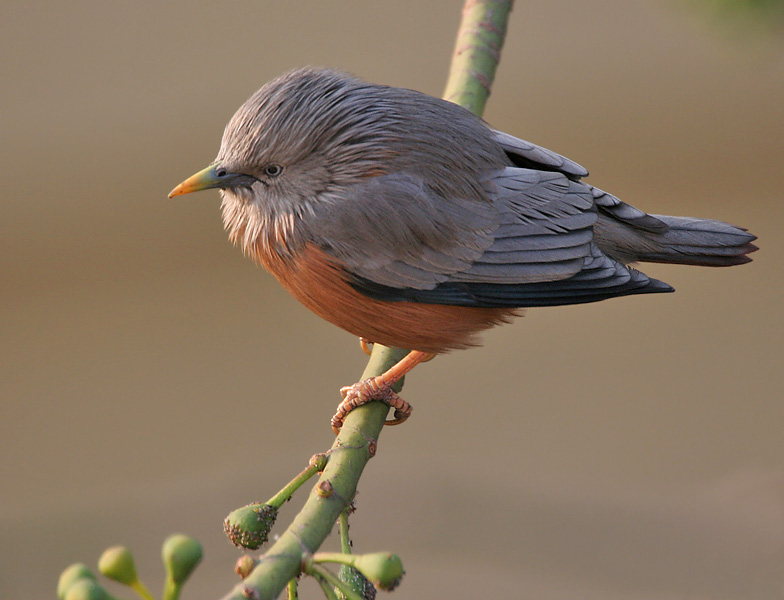bird: (164, 66, 768, 430)
